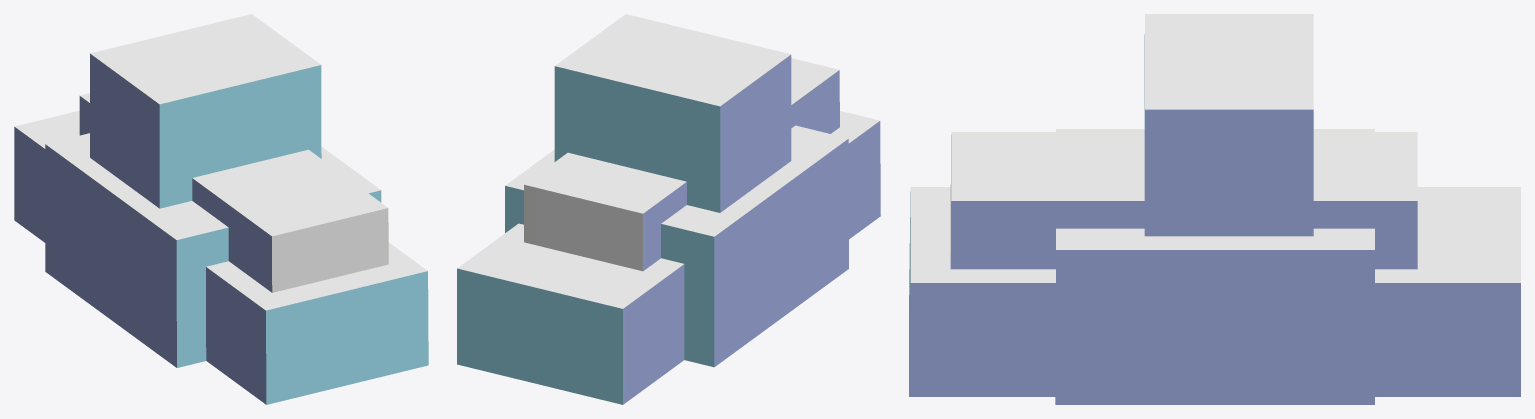
File: cloud4.FBX
3 views of the same model, side by side, from view 1: azimuth 30°, elevation 25°; view 2: azimuth 150°, elevation 25°; view 3: azimuth 270°, elevation 25° (orthographic). The views are drawn at different scales.
Parts seen in each view (by area): view 1: cloud4; view 2: cloud4; view 3: cloud4.
Part boxes in pixels (x1,y1,x2,y2): cloud4: [14, 14, 428, 404]; cloud4: [457, 14, 880, 404]; cloud4: [909, 14, 1520, 404].
Bounding box in the file's own units: 131 × 280 × 142.
